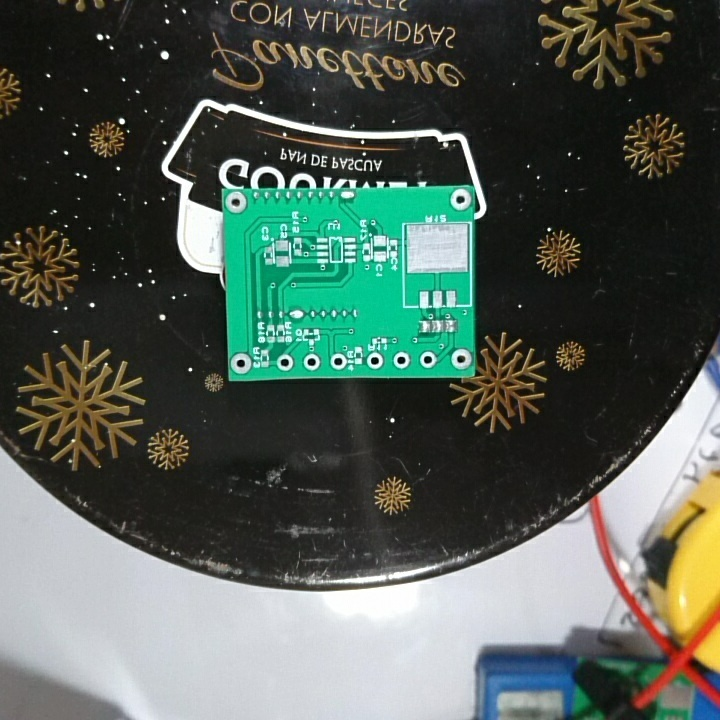F: (224, 191, 250, 217), (229, 350, 253, 376), (450, 348, 474, 372), (450, 187, 471, 212), (275, 352, 296, 372), (390, 349, 410, 369), (364, 350, 384, 370), (302, 351, 321, 372), (418, 350, 436, 370), (328, 351, 348, 369)
P: (338, 188, 357, 204), (287, 306, 306, 321)
